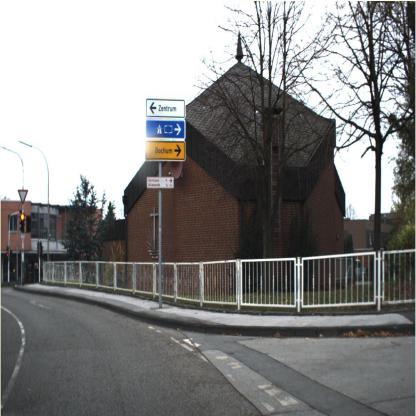other: (16, 184, 30, 206)
